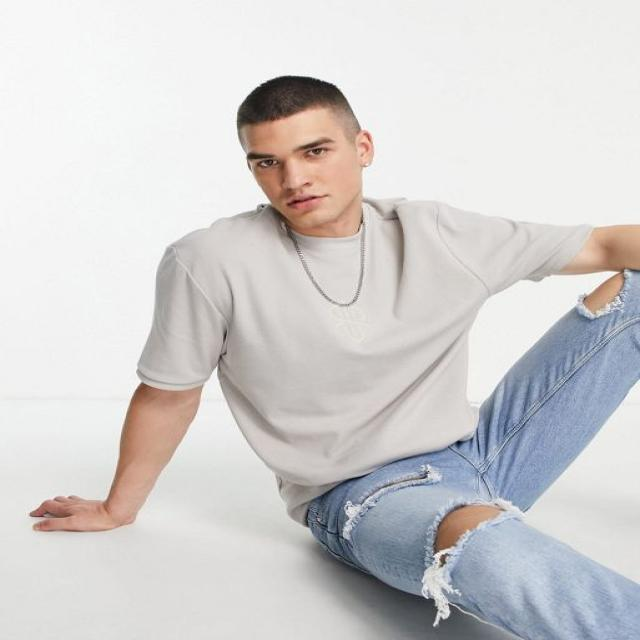tshirt: (132, 193, 594, 521)
